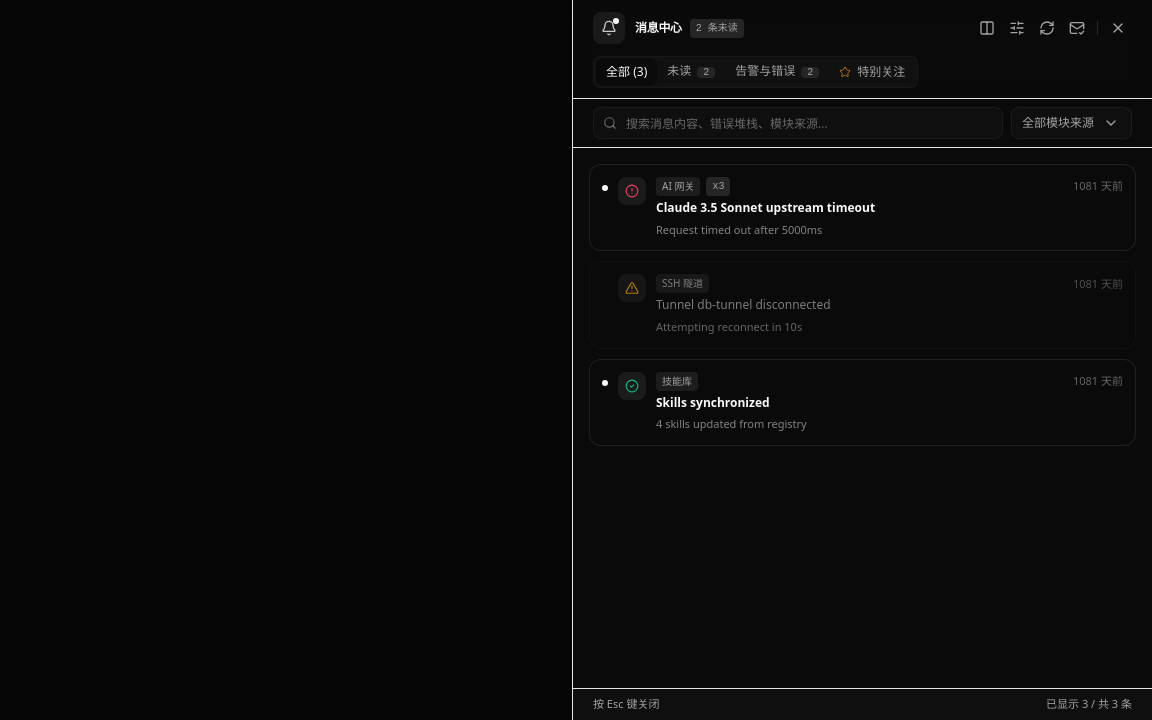
Scenario: src/components/MessageCenter/MessageCenter.tsx › toggles wide mode split view
Expected: the text "Claude 3.5 Sonnet upstream timeout" is shown, [656,199,875,216]
Click the button titled "宽屏排障工作台". click: coordinates (987, 28)
box: [973,14,1001,42]
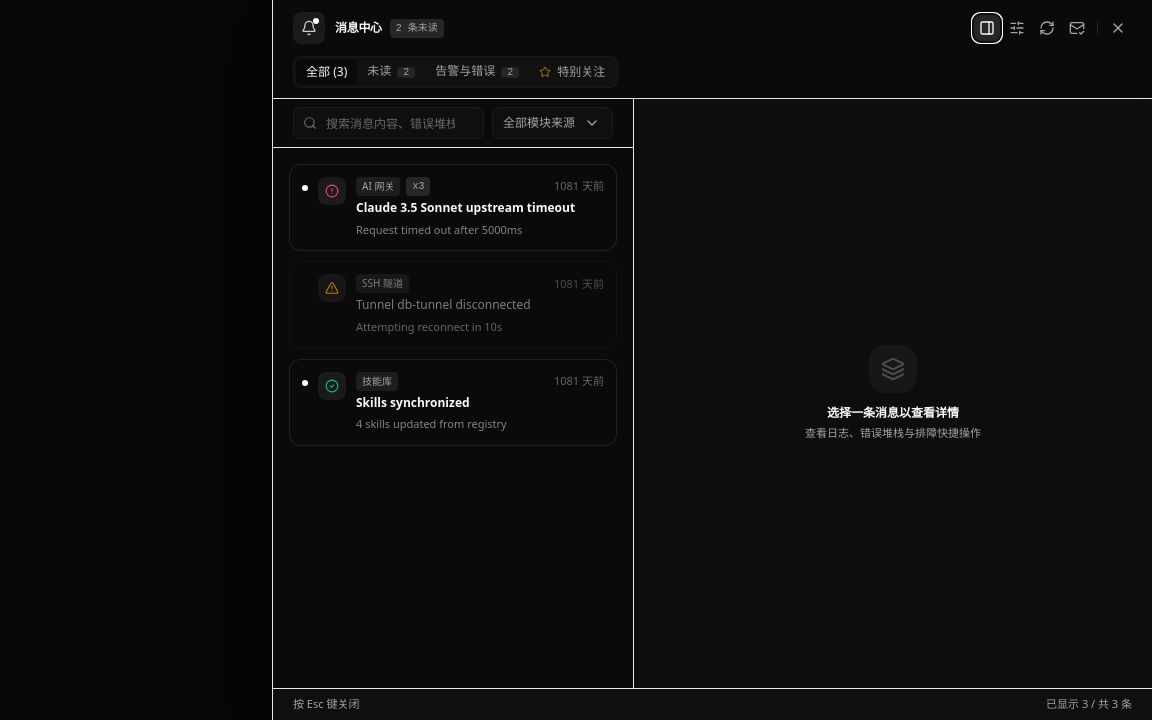
Expected: the text "选择一条消息以查看详情" is shown, [827,405,959,421]
